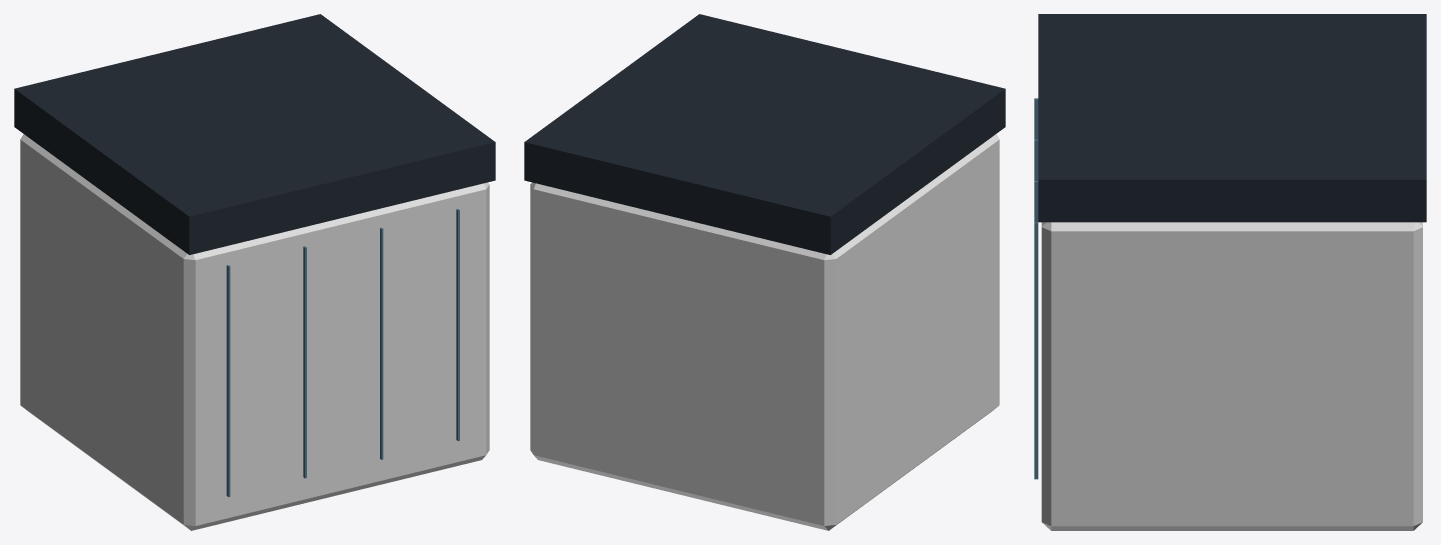
Rendered from barrier.glb.
3 views of the same model, side by side, from view 1: azimuth 30°, elevation 25°; view 2: azimuth 150°, elevation 25°; view 3: azimuth 270°, elevation 25° (orthographic). The views are drawn at different scales.
Visible parts, largest first — view 1: beret/panel-unit; view 2: beret/panel-unit; view 3: beret/panel-unit.
Part boxes in pixels (box(x1,y1,x2,y2)): beret/panel-unit: box(14, 14, 495, 530); beret/panel-unit: box(524, 14, 1005, 530); beret/panel-unit: box(1034, 14, 1426, 530).
Size of the model in its own units: 1 by 1 by 1.
